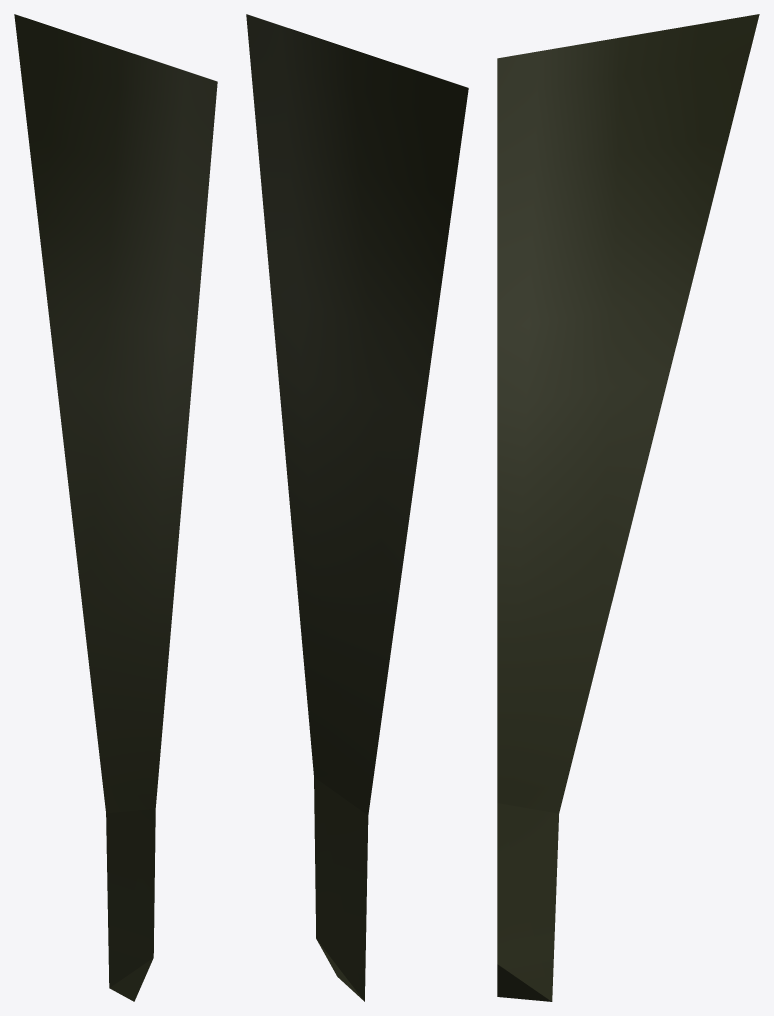
The picture shows the model from 3 angles, left to right: view 1: azimuth 30°, elevation 25°; view 2: azimuth 210°, elevation 25°; view 3: azimuth 270°, elevation 25°; orthographic projection. The views are drawn at different scales.
Size of the model in its own units: 0.0132 by 0.1372 by 0.033.
1 material, 1 textured.
